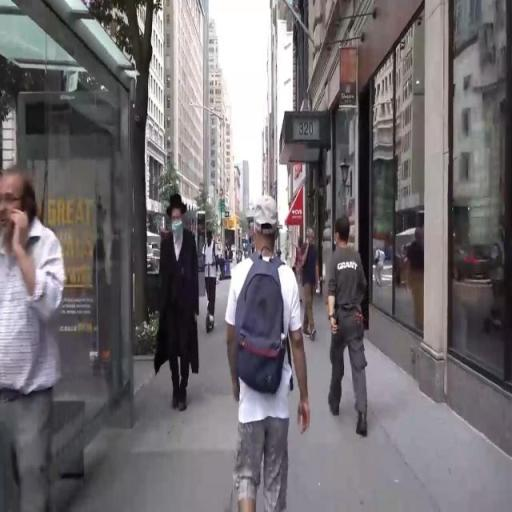person: (2, 162, 88, 512), (223, 198, 306, 512), (323, 214, 380, 442), (157, 196, 203, 415), (202, 223, 223, 337), (304, 228, 322, 345)
